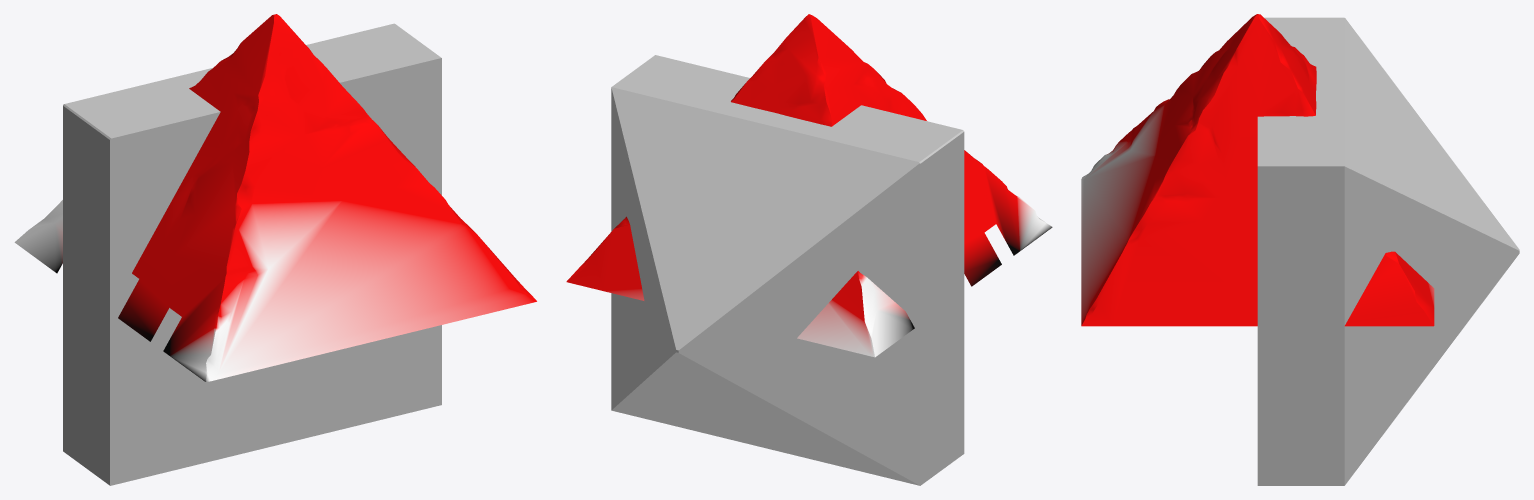
The picture shows the model from 3 angles, left to right: view 1: azimuth 30°, elevation 25°; view 2: azimuth 150°, elevation 25°; view 3: azimuth 270°, elevation 25°; orthographic projection. The views are drawn at different scales.
Parts seen in each view (by area): view 1: SM_pyramid_02, SM_pyramid_02_ConvexHulls; view 2: SM_pyramid_02_ConvexHulls, SM_pyramid_02; view 3: SM_pyramid_02_ConvexHulls, SM_pyramid_02.
Boxes of the visible parts, x1=… form: SM_pyramid_02: x1=14, y1=14, x2=536, y2=381; SM_pyramid_02_ConvexHulls: x1=63, y1=23, x2=441, y2=485; SM_pyramid_02_ConvexHulls: x1=611, y1=55, x2=964, y2=485; SM_pyramid_02: x1=566, y1=14, x2=1052, y2=357; SM_pyramid_02_ConvexHulls: x1=1257, y1=17, x2=1519, y2=485; SM_pyramid_02: x1=1081, y1=14, x2=1434, y2=326.
Size of the model in its own units: 8927 by 11088 by 11088.
